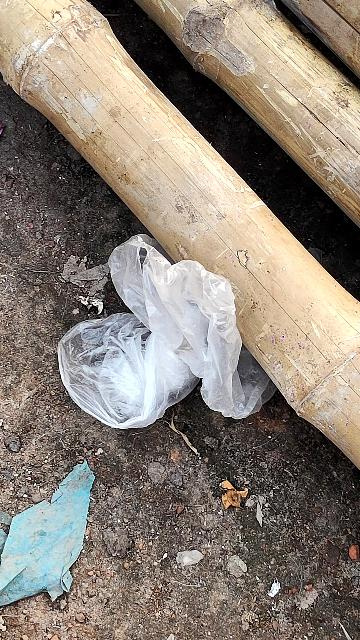polythene: (23, 226, 269, 473), (1, 458, 91, 613)
